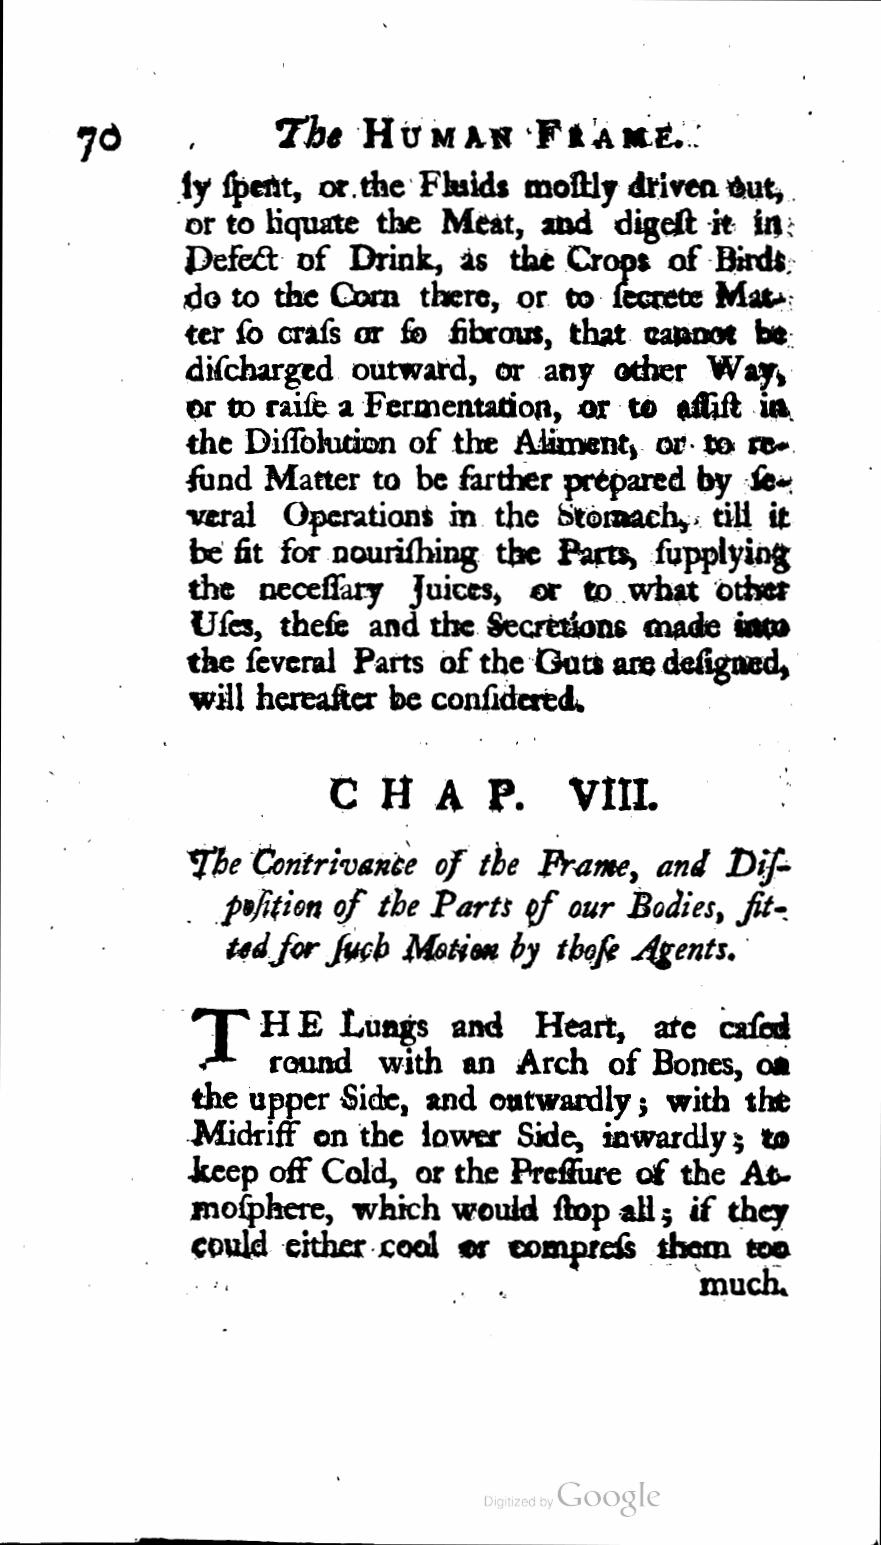bottom_p: (178, 168, 792, 722)
catchword: (696, 1270, 792, 1312)
full_p: (182, 846, 794, 968), (326, 770, 660, 820)
header: (267, 108, 696, 164)
initial_l: (188, 999, 254, 1076)
page_num: (68, 108, 124, 164)
top_p: (188, 999, 792, 1274)
